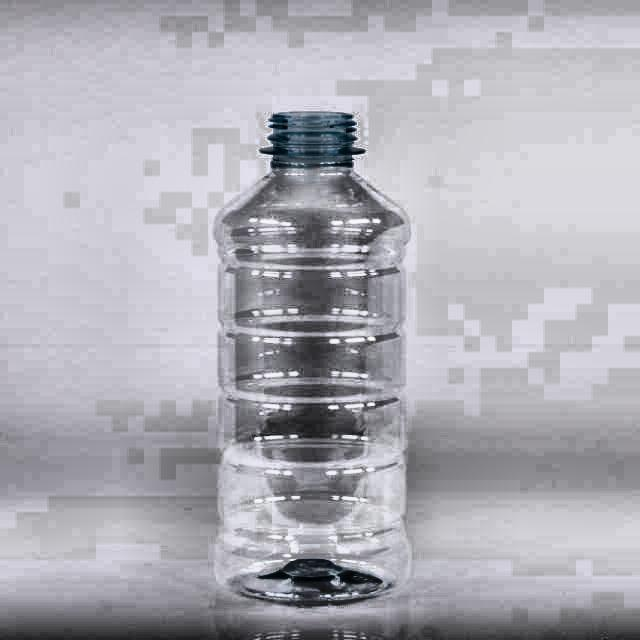plastic bottle: (212, 109, 410, 607)
